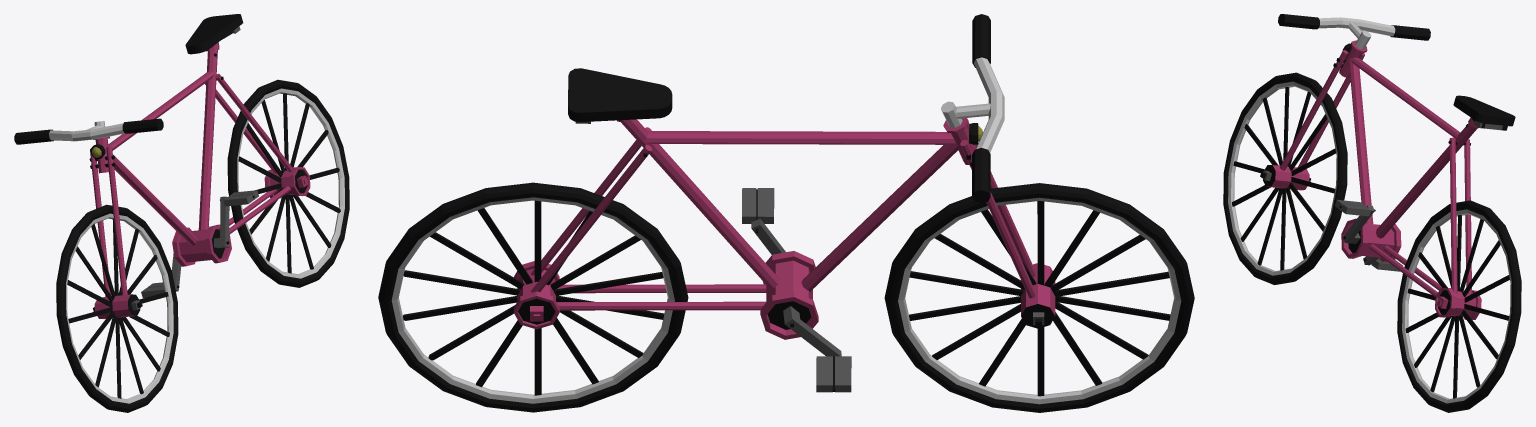
Rendered from bicycle.glb.
The picture shows the model from 3 angles, left to right: view 1: azimuth 30°, elevation 25°; view 2: azimuth 150°, elevation 25°; view 3: azimuth 270°, elevation 25°; orthographic projection. The views are drawn at different scales.
Visible parts, largest first — view 1: bicycle; view 2: bicycle; view 3: bicycle.
Part boxes in pixels (x1,y1,x2,y2): bicycle: (14, 14, 349, 412); bicycle: (378, 14, 1194, 412); bicycle: (1223, 14, 1521, 412).
Size of the model in its own units: 4.08 by 2.54 by 2.48.
